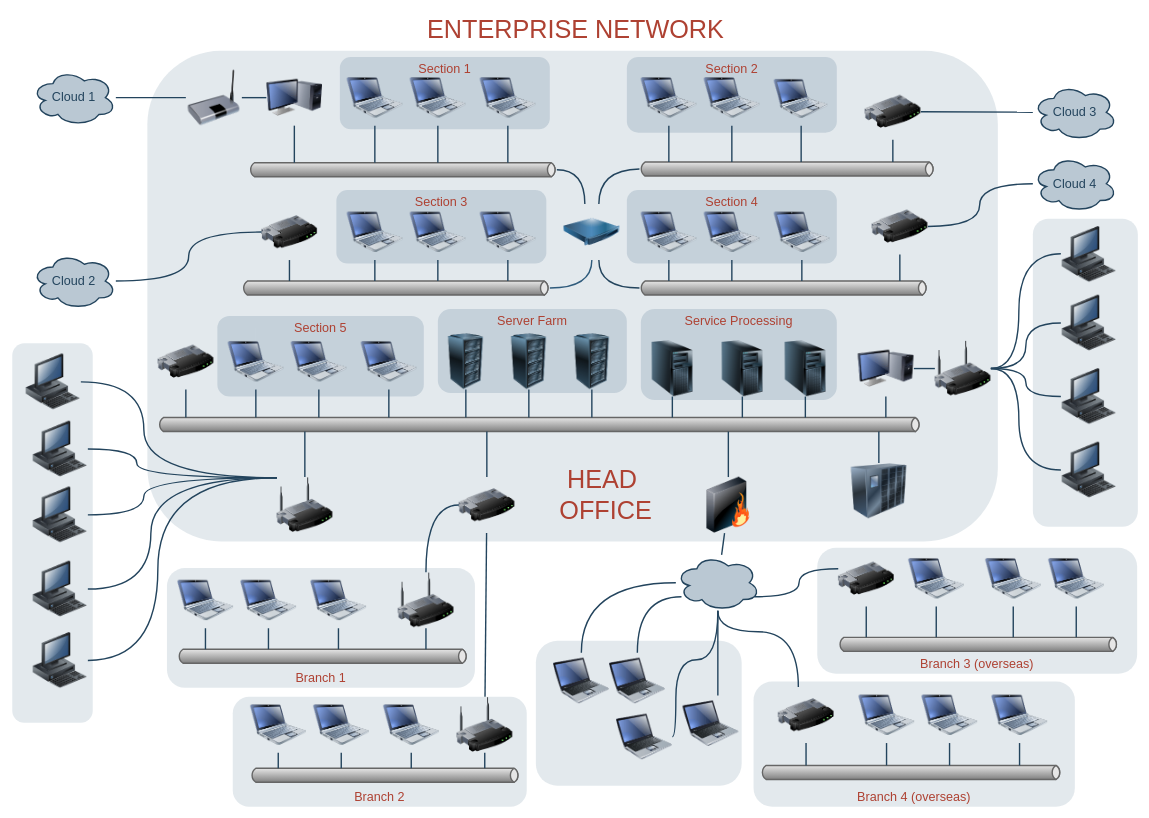
The diagram is 1149 pixels wide and 818 high, and some of its shapes have lost their labels. The shapes that lost their labels are listed below. From the top down, each one's box as (x1, y1, x2, y2) in pixels, then its label:
(1032, 218, 1138, 526): Maintenance
(12, 343, 92, 722): Consumers
(675, 554, 760, 611): Internet
(536, 640, 741, 785): Contractors
